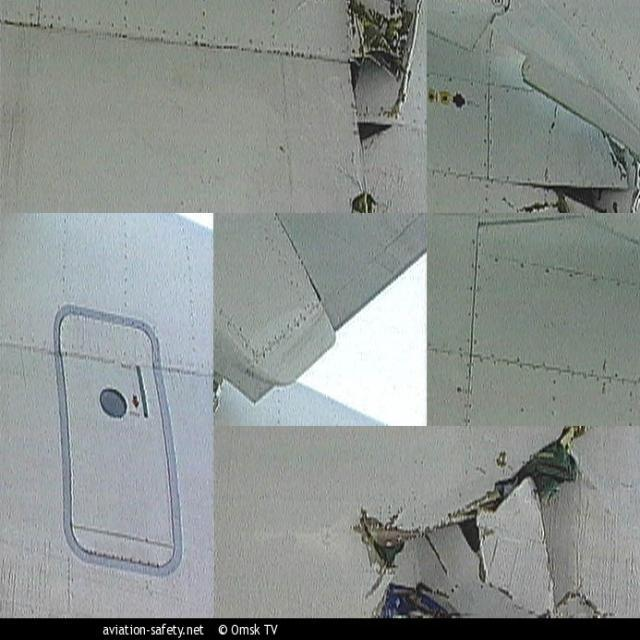crack: (348, 427, 608, 622), (494, 185, 567, 218)
